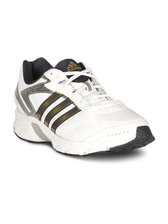shoes: (13, 58, 157, 157)
